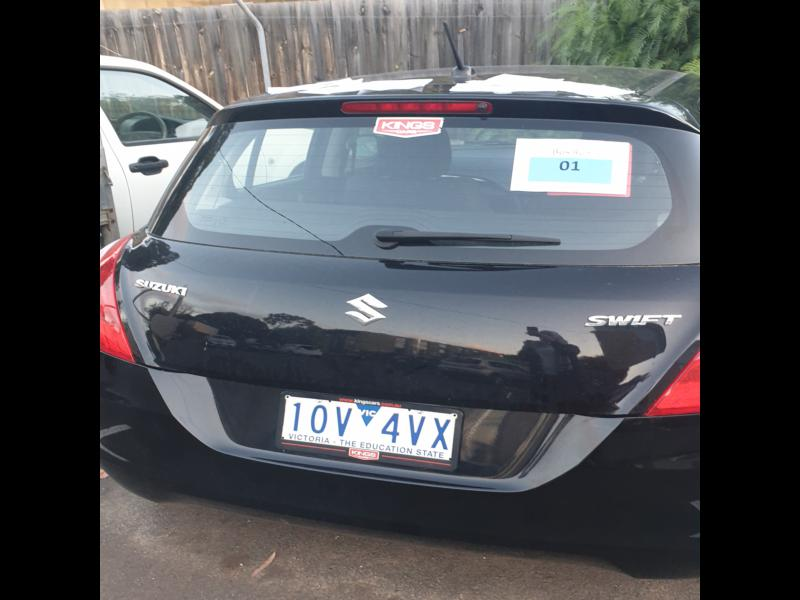BusRun: (529, 157, 613, 182)
PlateNo: (278, 392, 460, 457)
